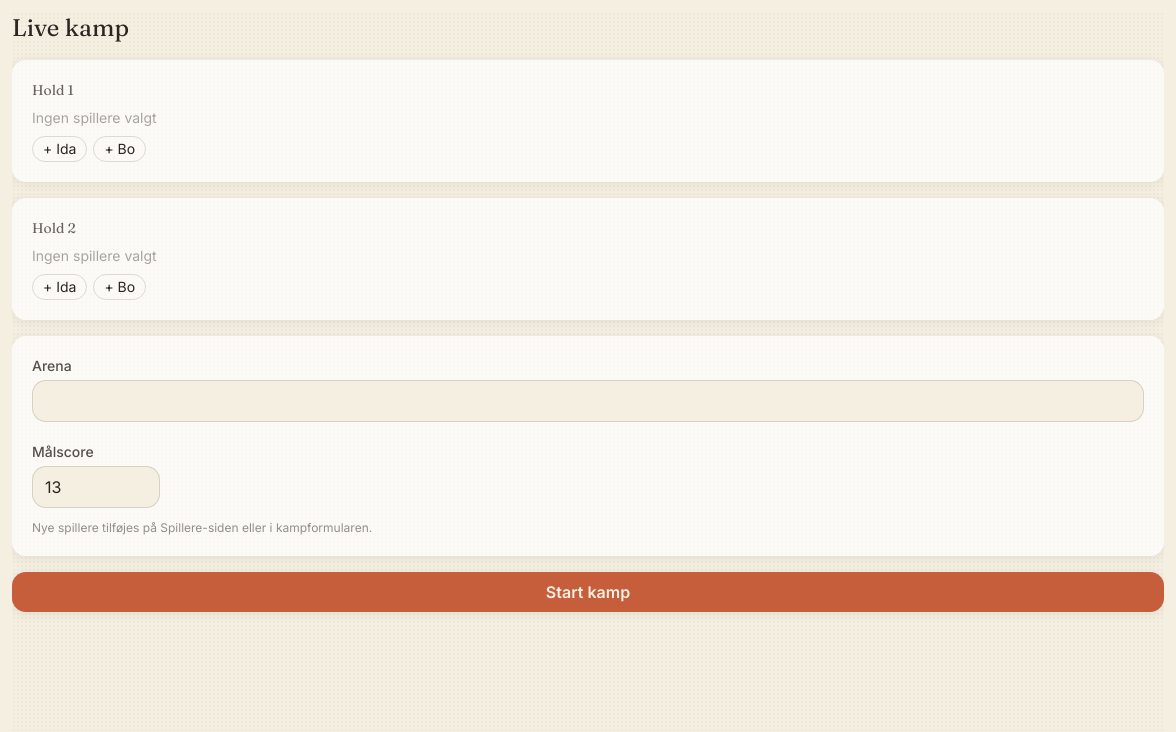
Test: LiveMatchPage › blocks start when a team is empty
Click the 1st button "+ Ida". click: (60, 149)
box: [32, 136, 87, 162]
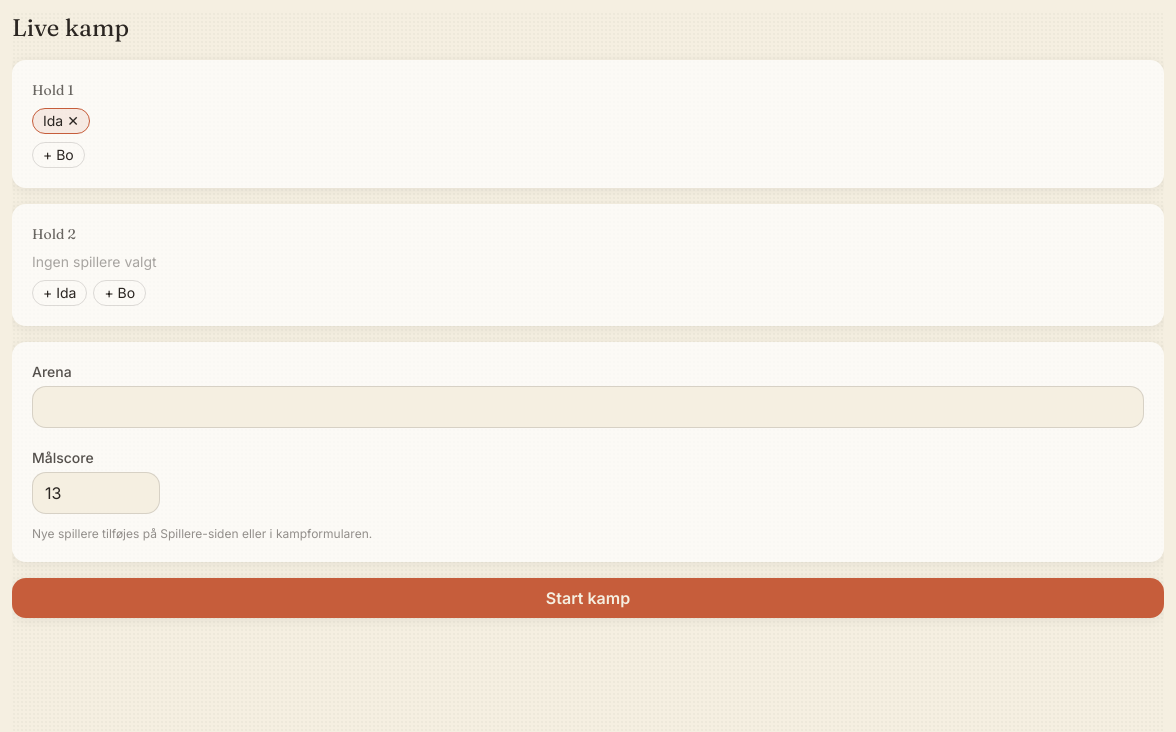
Click the button "Start kamp". click: (588, 598)
box: [12, 578, 1164, 618]
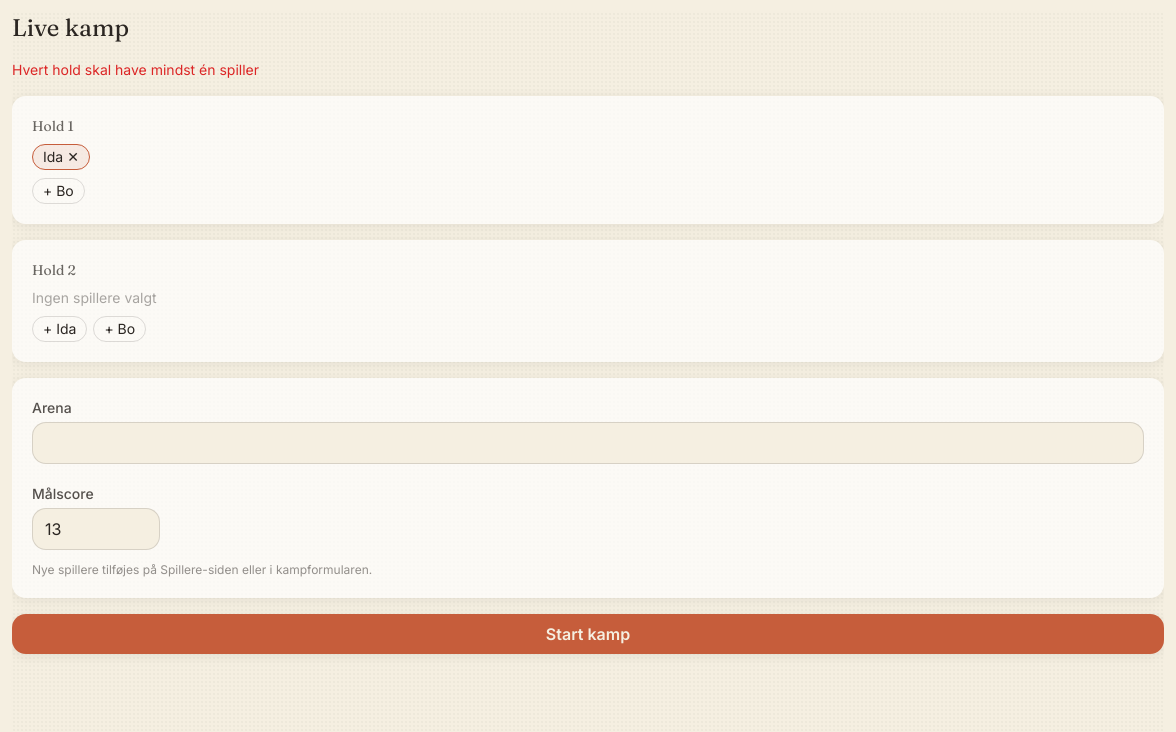
Expected: the text "Hvert hold skal have mindst én spiller" is shown, [12, 61, 259, 78]
